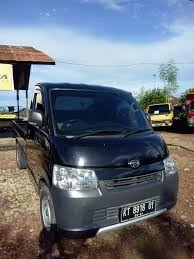plate: (121, 201, 156, 217)
